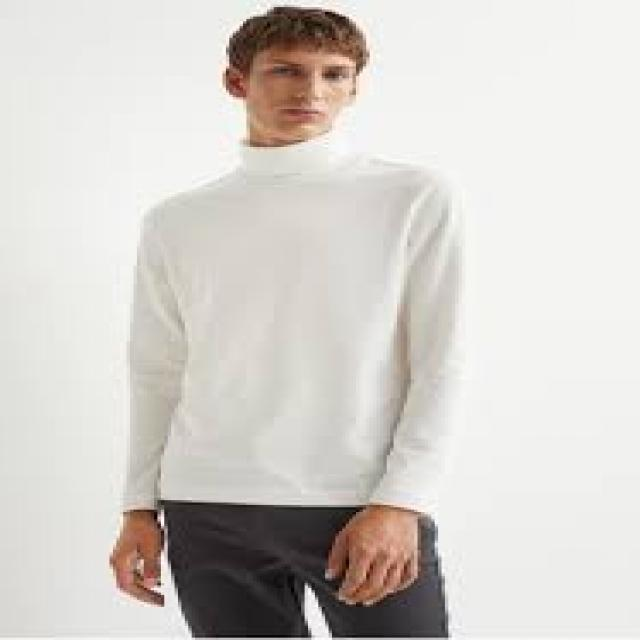plain: (89, 139, 482, 529)
